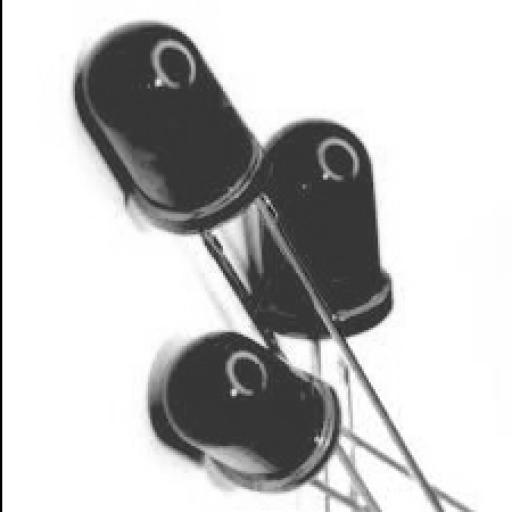LED: (50, 14, 285, 254), (117, 304, 374, 488), (254, 105, 414, 389)
